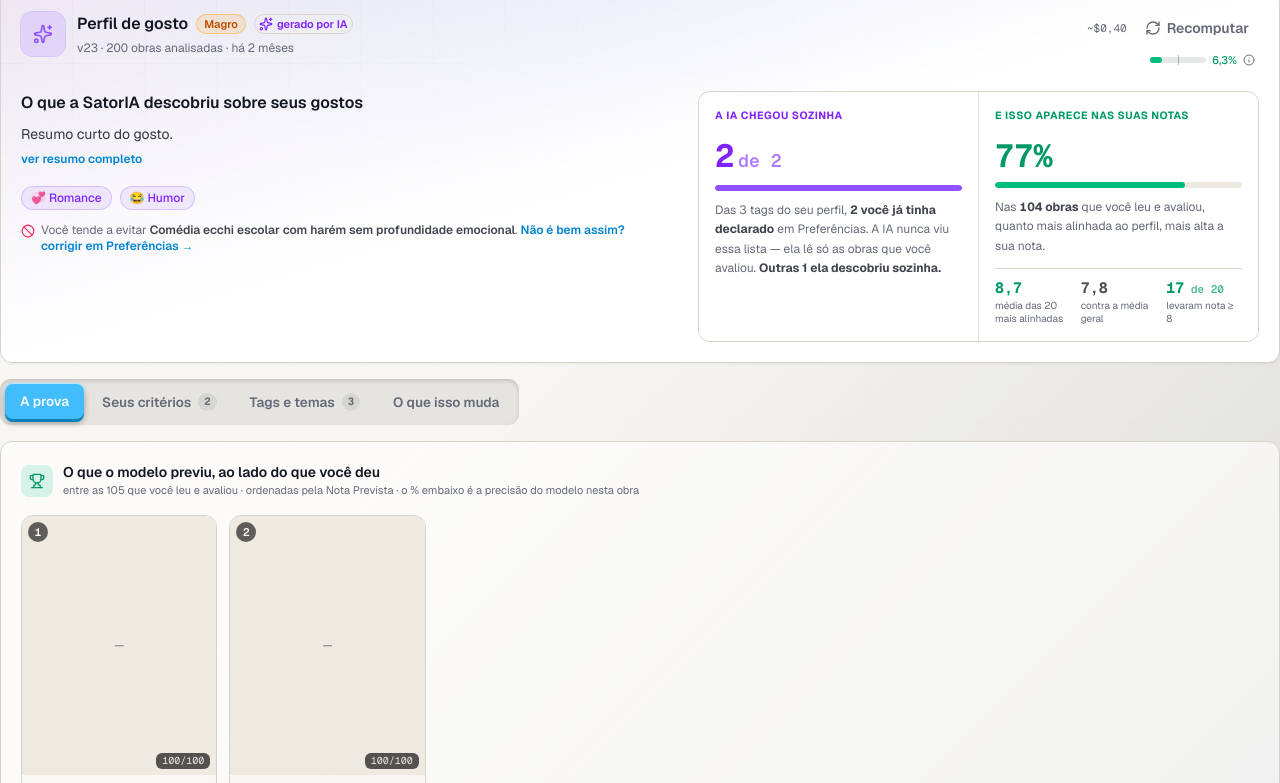
it: aba O que isso muda › pagina as próximas leituras e o rank continua entre páginas
The width and height of the screenshot is (1280, 783).
Click the tab "O que isso muda" at coordinates (446, 402), box [378,384,514,420]
(page scrolled)
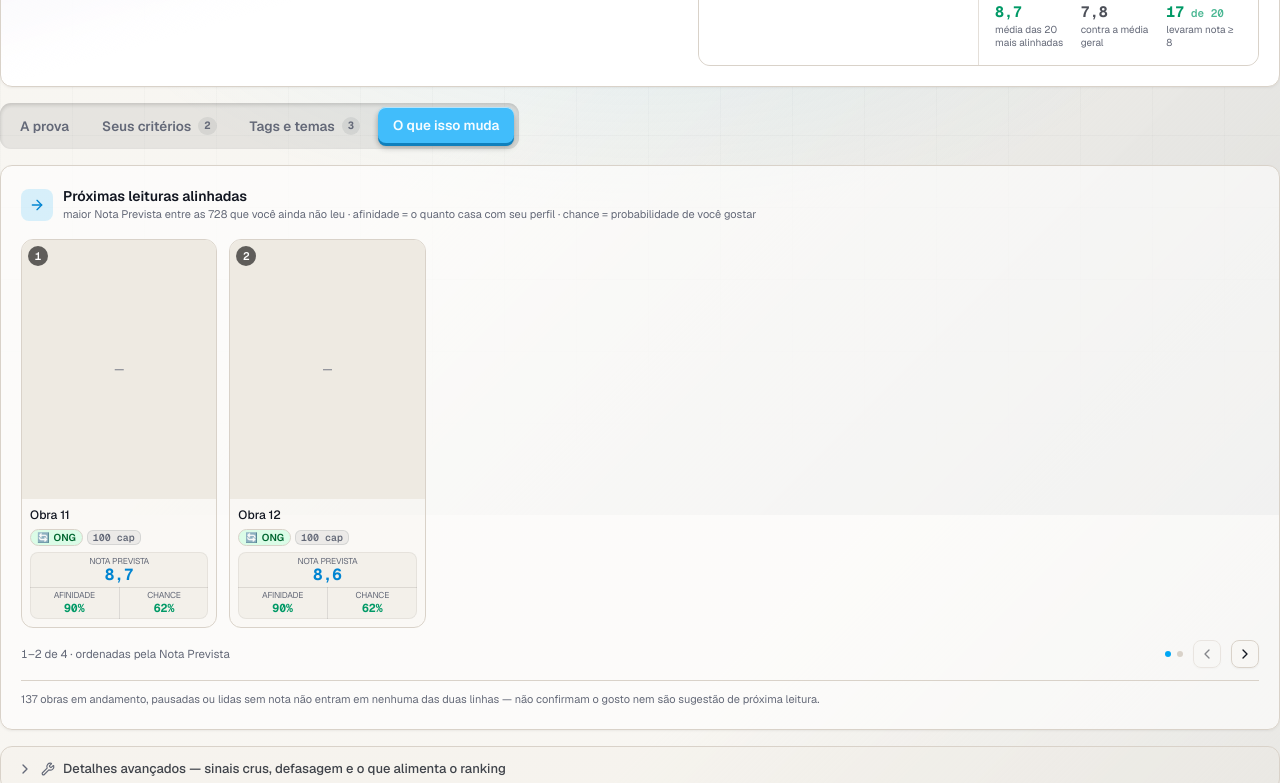
expect the text "Obra 13" is not shown: met
expect the link "Obra 11" is shown: met, box [30,507,70,523]
Click the button named "Próxima página" at coordinates (1245, 654), box [1231,640,1259,668]
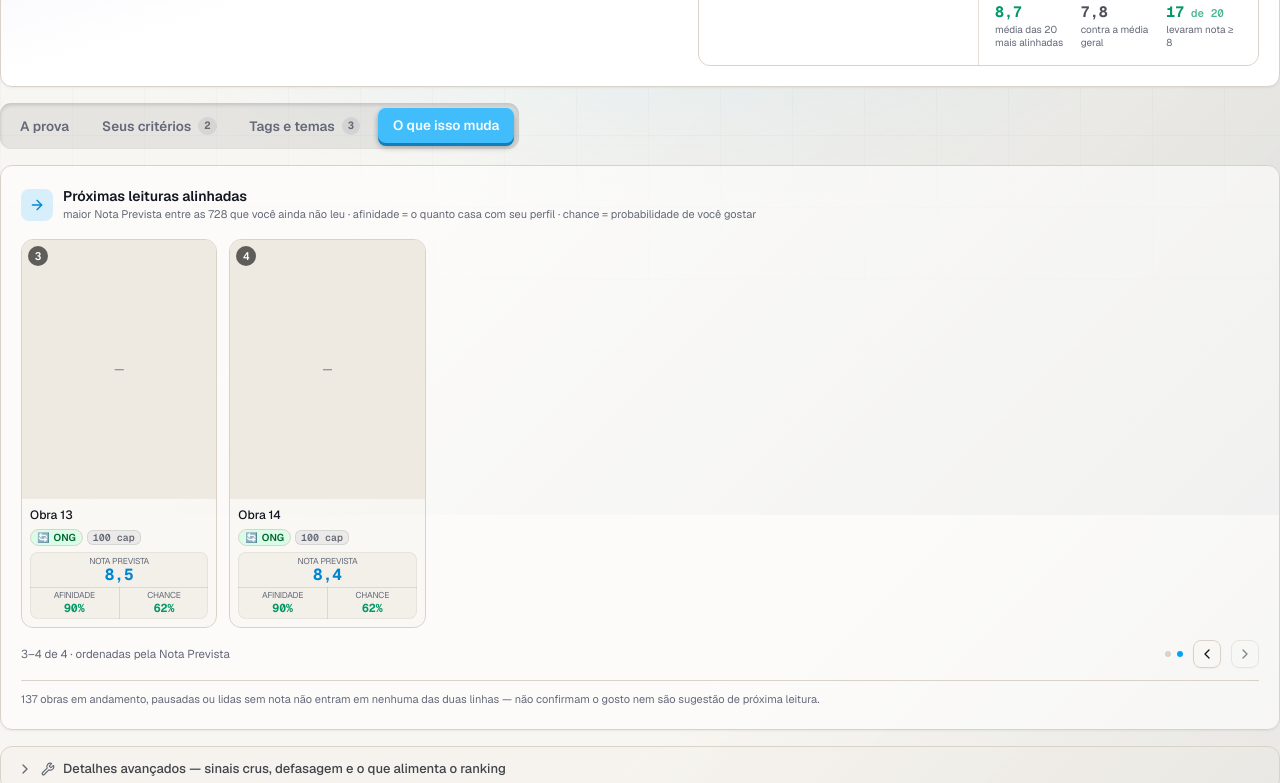
expect the text "3" below "Próximas leituras alinhadas" is shown: met, box [35,249,41,263]
